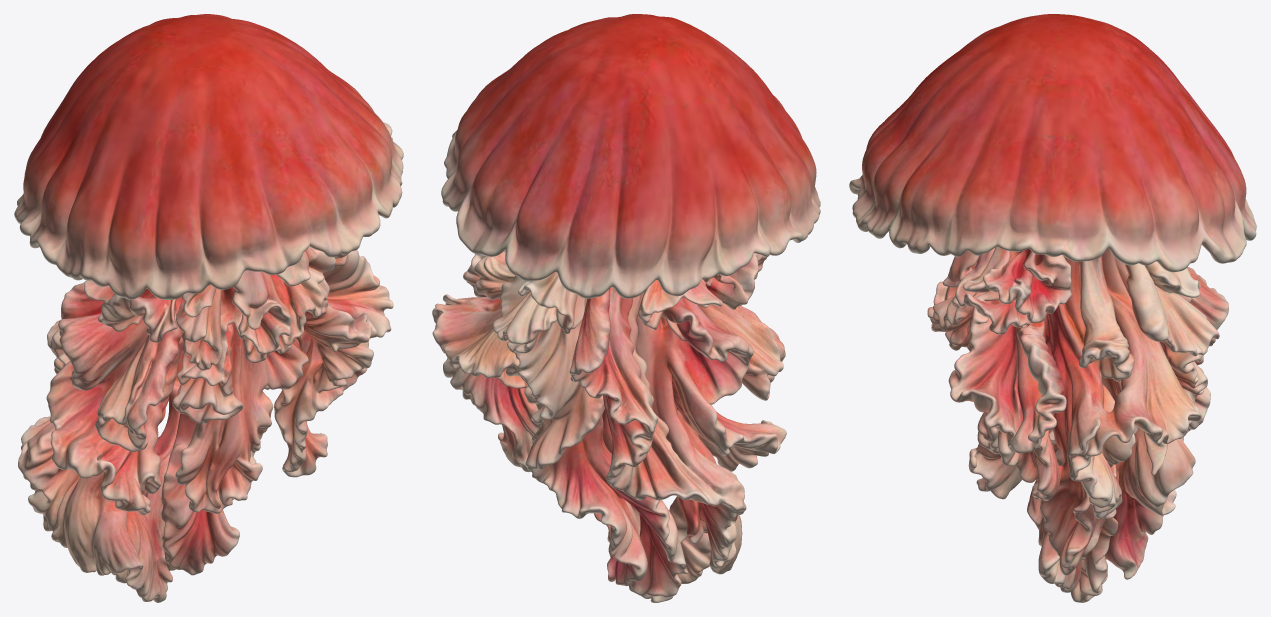
Rendered from jellyfish-light.glb.
3 views of the same model, side by side, from view 1: azimuth 30°, elevation 25°; view 2: azimuth 150°, elevation 25°; view 3: azimuth 270°, elevation 25° (orthographic). The views are drawn at different scales.
Visible parts, largest first — view 1: jellyfish; view 2: jellyfish; view 3: jellyfish.
Part boxes in pixels (x1,y1,x2,y2): jellyfish: [14, 14, 403, 602]; jellyfish: [432, 14, 820, 602]; jellyfish: [849, 14, 1256, 602].
Size of the model in its own units: 0.2527 by 0.3999 by 0.2509.
Materials: 1 (1 with a texture image).
